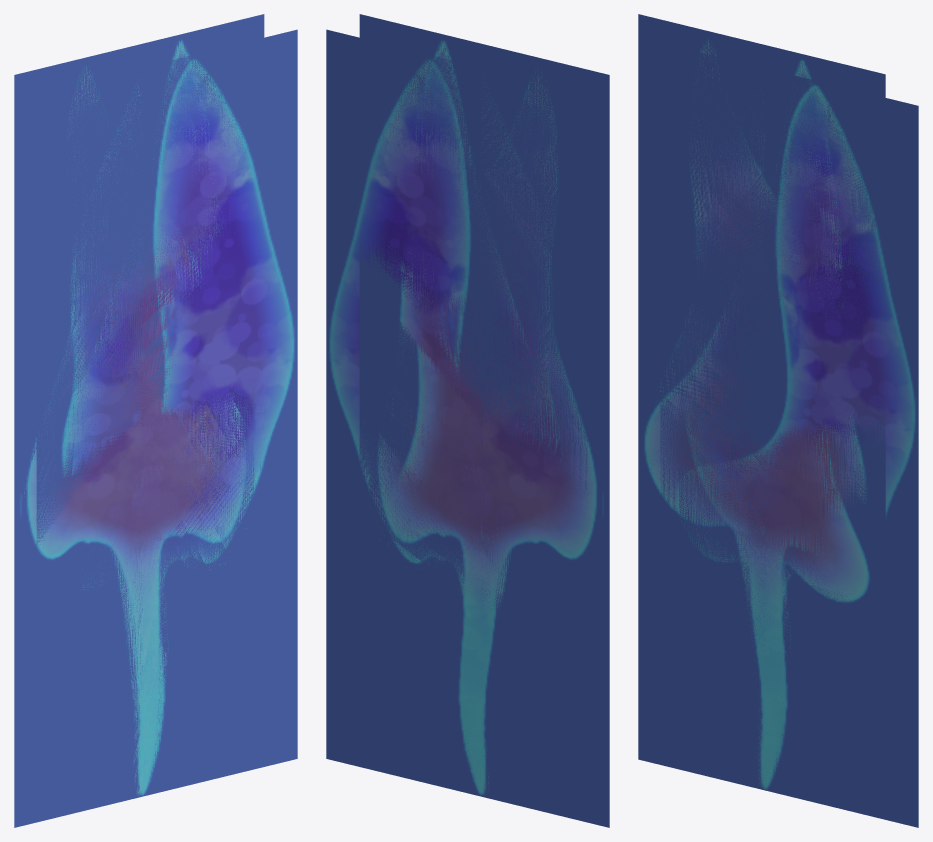
The model's file is SM_Flower_03.fbx.
3 views of the same model, side by side, from view 1: azimuth 30°, elevation 25°; view 2: azimuth 150°, elevation 25°; view 3: azimuth 330°, elevation 25° (orthographic).
Visible parts, largest first — view 1: A, B, C, D; view 2: A, B, C, D; view 3: A, B, C, D.
Part boxes in pixels (x1,y1,x2,y2): A: (36,29,297,818); B: (14,17,253,827); C: (21,14,264,825); D: (56,45,142,807); A: (326,29,587,819); B: (370,17,609,827); C: (359,14,602,819); D: (481,44,567,815); A: (660,43,918,827); B: (638,14,875,817); C: (645,16,885,813); D: (679,24,765,788).
Bounding box in the file's own units: 5.85 × 14.85 × 4.18e-06.
